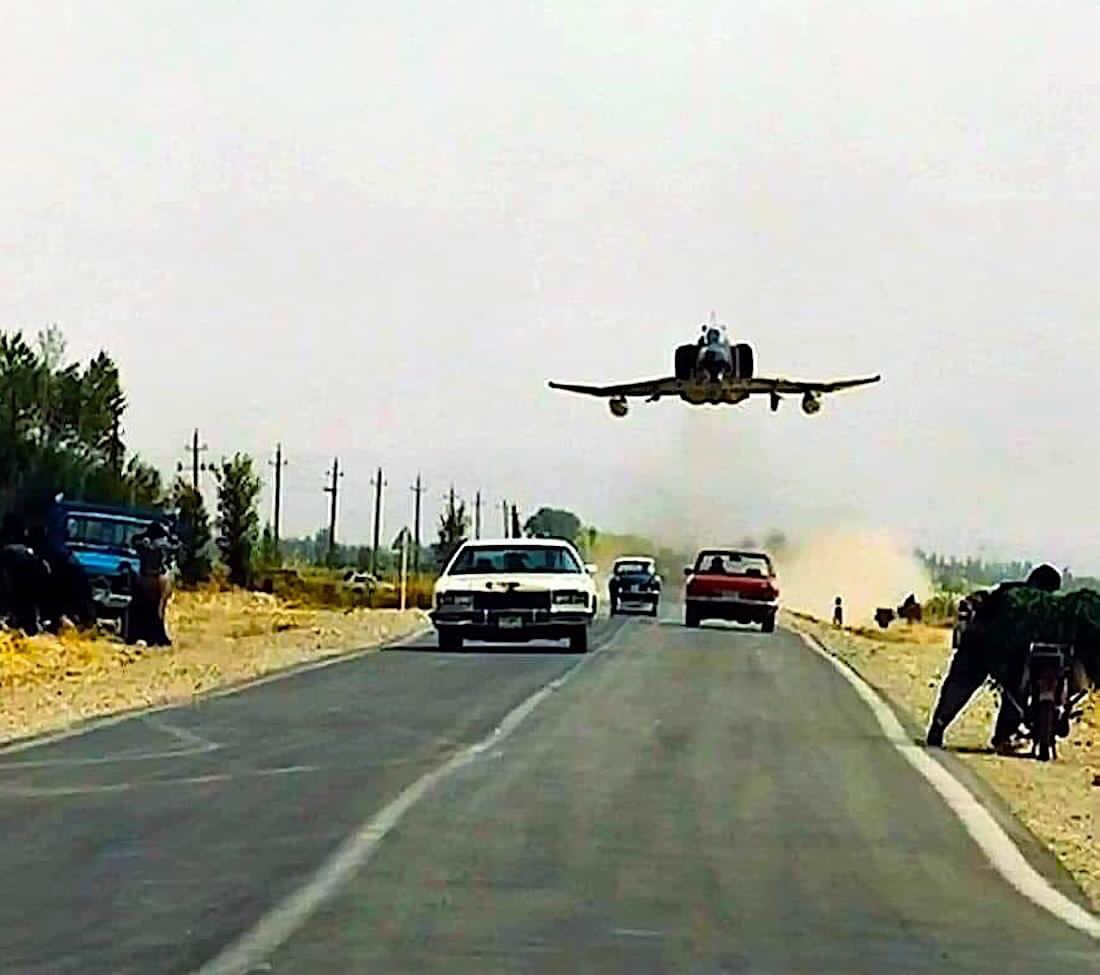F4: (548, 309, 882, 418)
